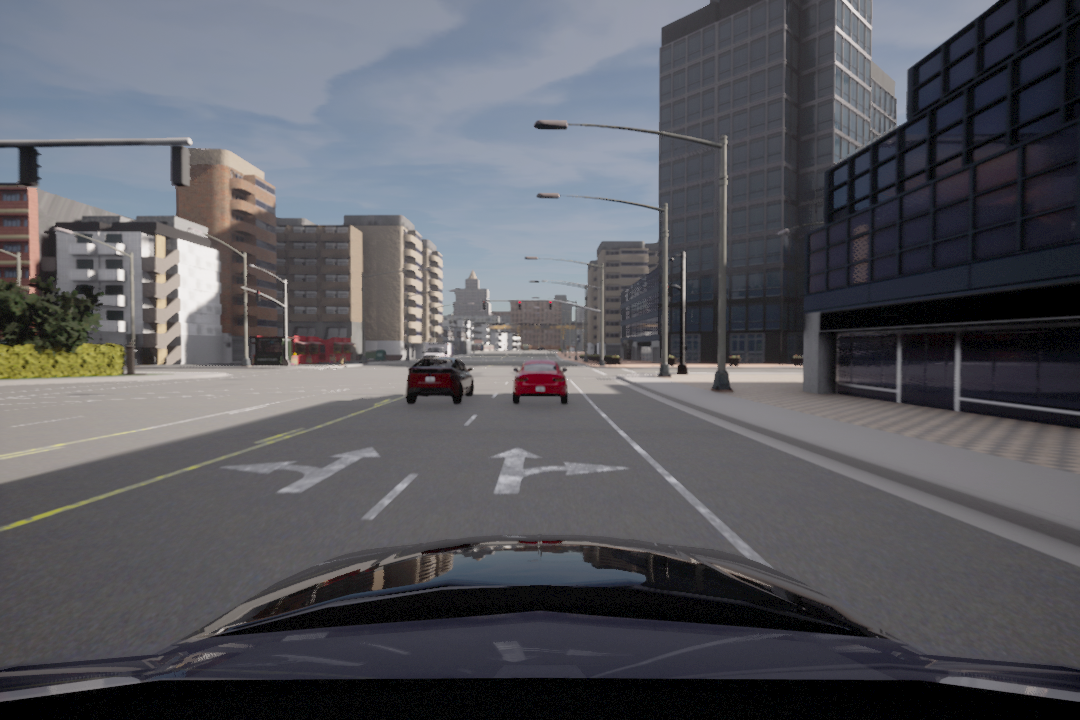RoadSign_forward_right: (469, 442, 633, 507)
RoadSign_left: (217, 444, 382, 497)
